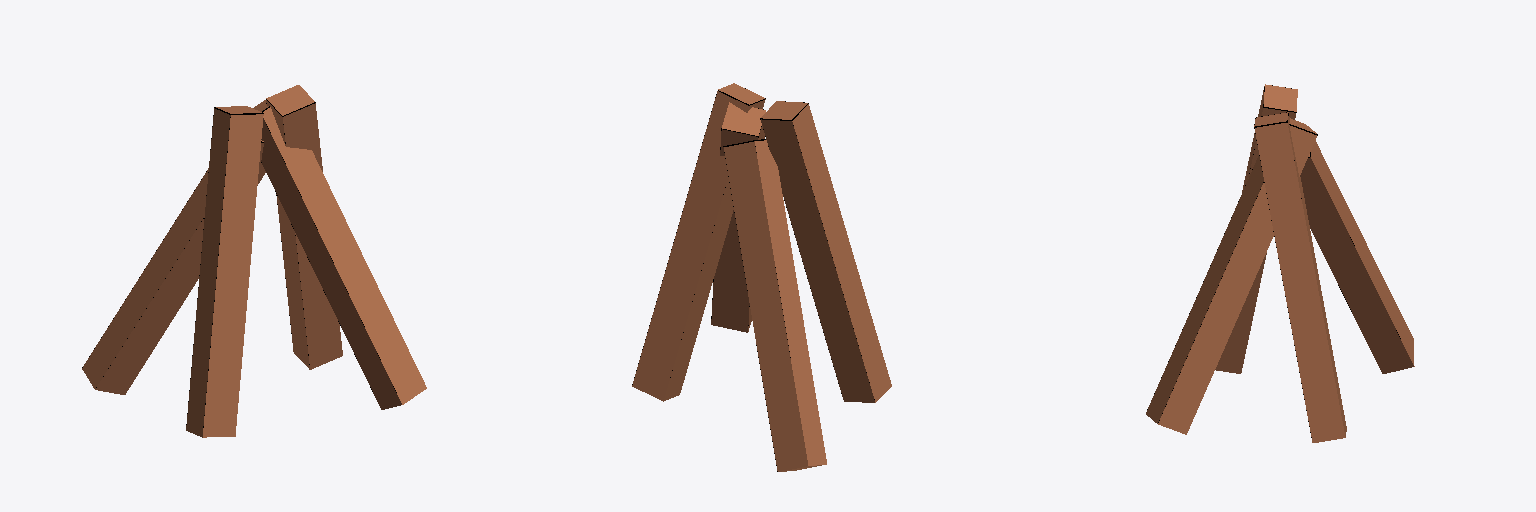
3 views of the same model, side by side, from view 1: azimuth 30°, elevation 25°; view 2: azimuth 150°, elevation 25°; view 3: azimuth 270°, elevation 25° (orthographic).
Visible parts, largest first — view 1: Cube.002, Cube.001, Cube.003, Cube; view 2: Cube.003, Cube.002, Cube, Cube.001; view 3: Cube.001, Cube, Cube.003, Cube.002.
Part boxes in pixels (x1,y1,x2,y2): Cube.002: (186,106,263,437); Cube.001: (253,100,426,409); Cube.003: (82,140,265,394); Cube: (266,85,342,369); Cube.003: (723,139,826,471); Cube.002: (760,101,891,402); Cube: (632,83,765,401); Cube.001: (711,102,765,332); Cube.001: (1146,118,1317,434); Cube: (1254,112,1346,442); Cube.003: (1300,141,1414,373); Cube.002: (1215,84,1297,373).
Bounding box in the file's own units: 1.48 × 2.02 × 1.56.
4 materials, 1 textured.